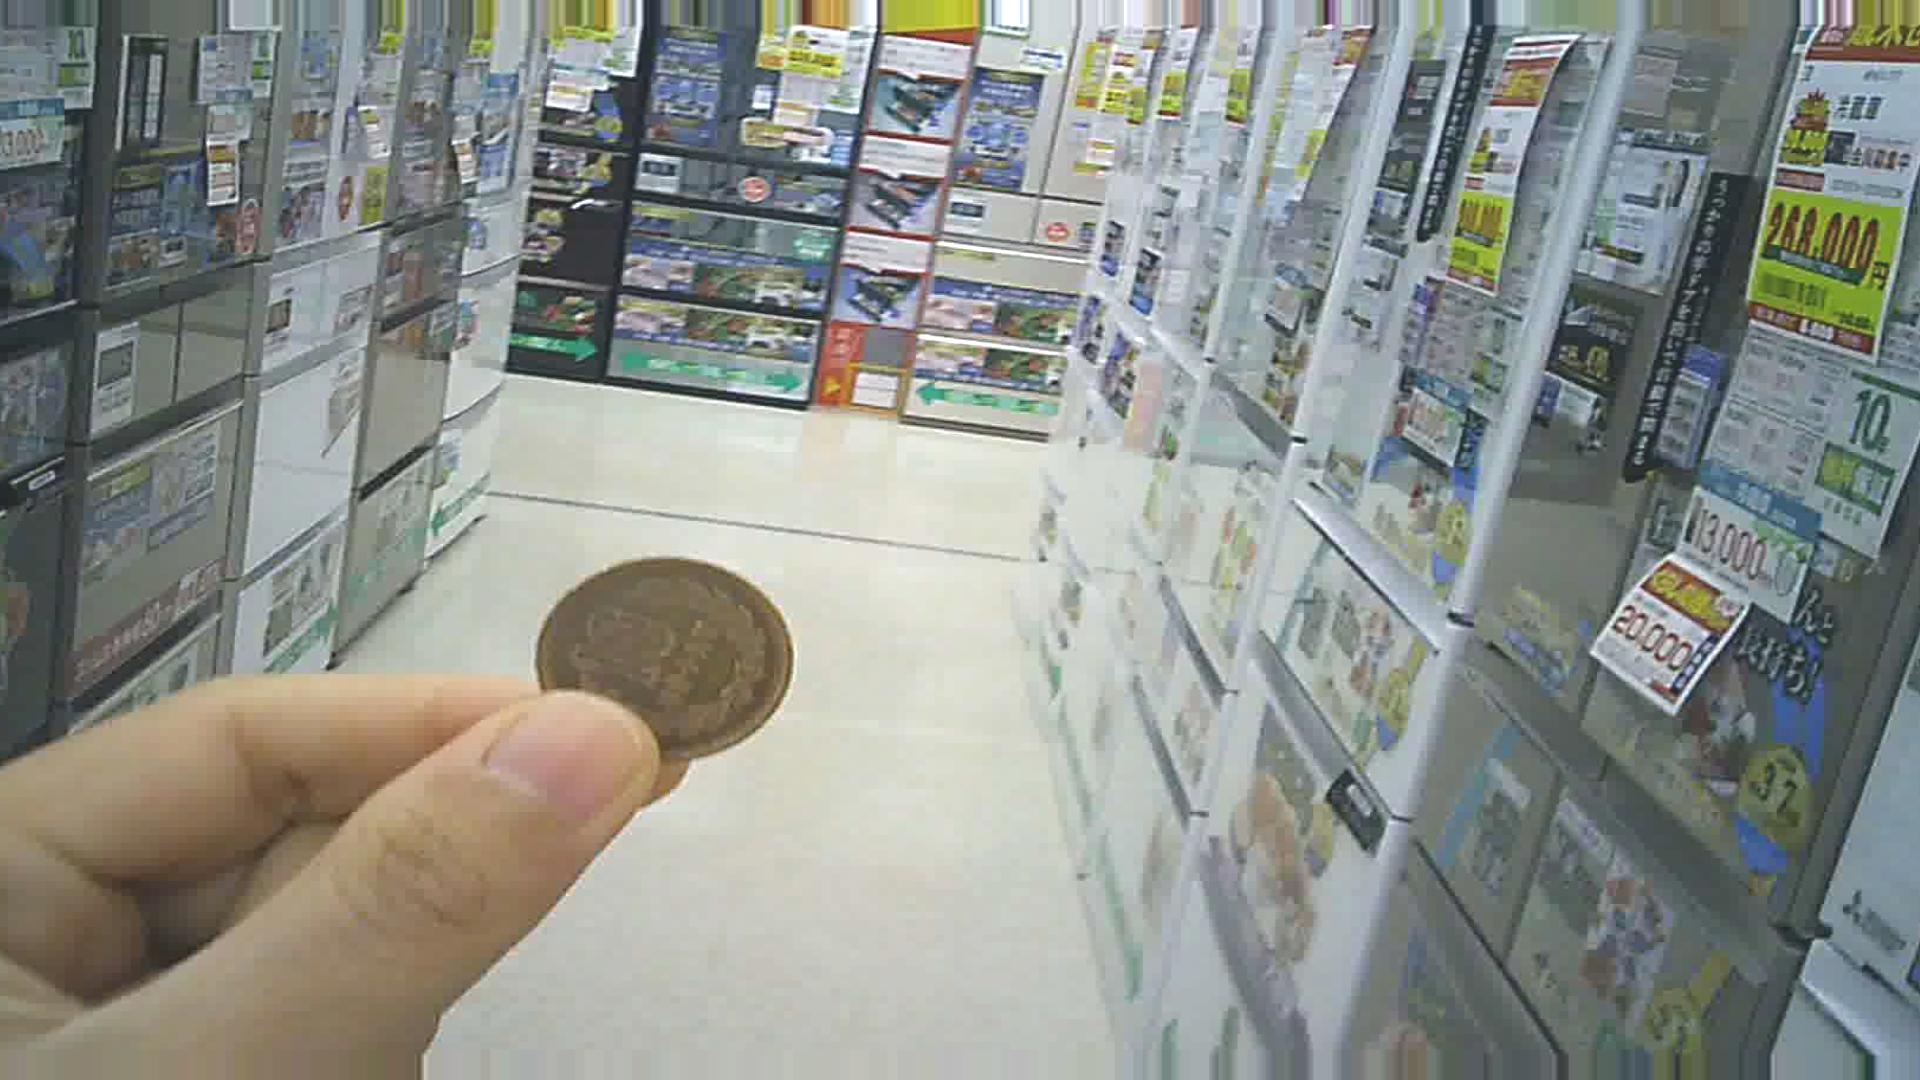10 Yen: (521, 551, 798, 767)
